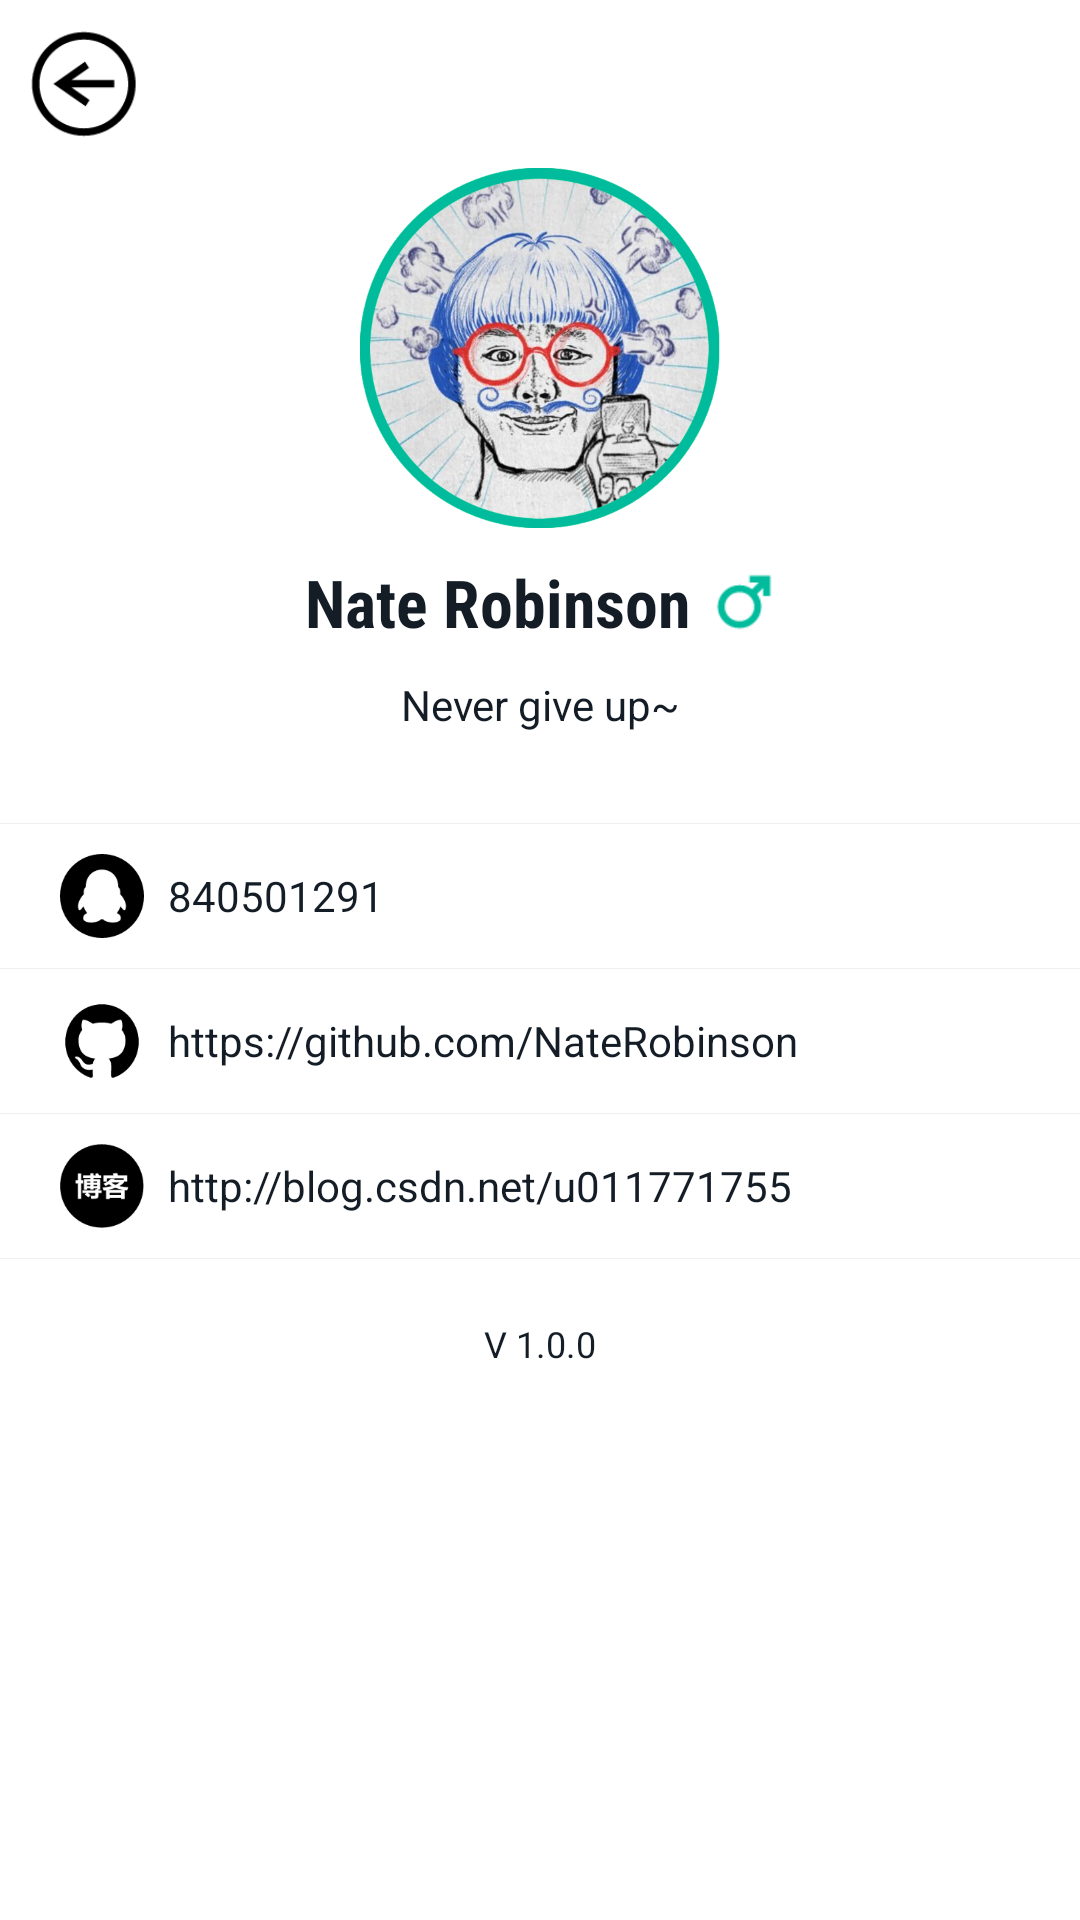

Where to tap for icons on this 1080 × 1920 app screen, as point (x, y):
head: point (540, 348)
